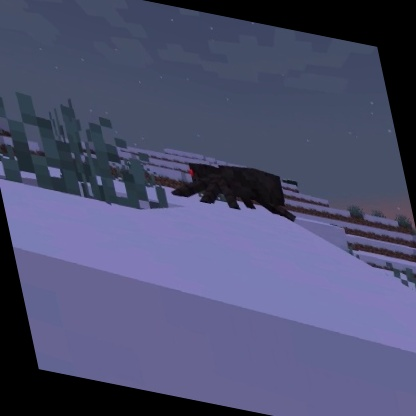spider: (160, 148, 298, 225)
